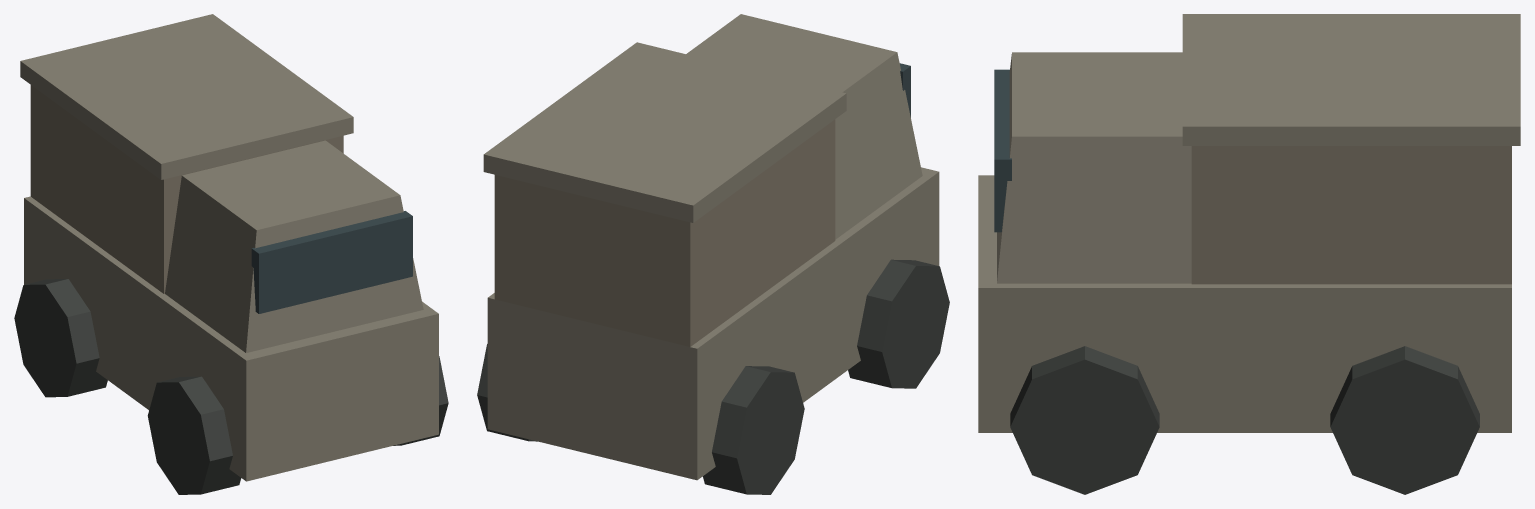
File: wm_party_civil.glb
3 renders of one model, left to right at view 1: azimuth 30°, elevation 25°; view 2: azimuth 150°, elevation 25°; view 3: azimuth 270°, elevation 25°, orthographic. The views are drawn at different scales.
Parts seen in each view (by area): view 1: hull, tarp, cab, load, glass, wheel0, wheel2, wheel1; view 2: hull, load, tarp, cab, wheel0, wheel2, wheel3; view 3: hull, tarp, load, cab, wheel3, wheel1, glass.
Boxes of the visible parts, <box> form: hull: <box>24,196,438,481</box>; tarp: <box>20,14,353,179</box>; cab: <box>165,140,423,352</box>; load: <box>30,85,343,293</box>; glass: <box>251,211,412,313</box>; wheel0: <box>147,376,241,494</box>; wheel2: <box>14,279,107,397</box>; wheel1: <box>393,356,448,445</box>; hull: <box>487,167,939,480</box>; load: <box>494,119,835,346</box>; tarp: <box>483,42,846,222</box>; cab: <box>686,14,922,239</box>; wheel0: <box>848,259,949,388</box>; wheel2: <box>703,366,804,494</box>; wheel3: <box>477,344,537,441</box>; hull: <box>978,175,1511,432</box>; tarp: <box>1182,14,1520,145</box>; load: <box>1191,146,1511,284</box>; cab: <box>997,52,1191,283</box>; wheel3: <box>1330,346,1479,494</box>; wheel1: <box>1010,346,1159,494</box>; glass: <box>994,69,1011,232</box>.
Size of the model in its own units: 1.86 by 2.2 by 3.05.
